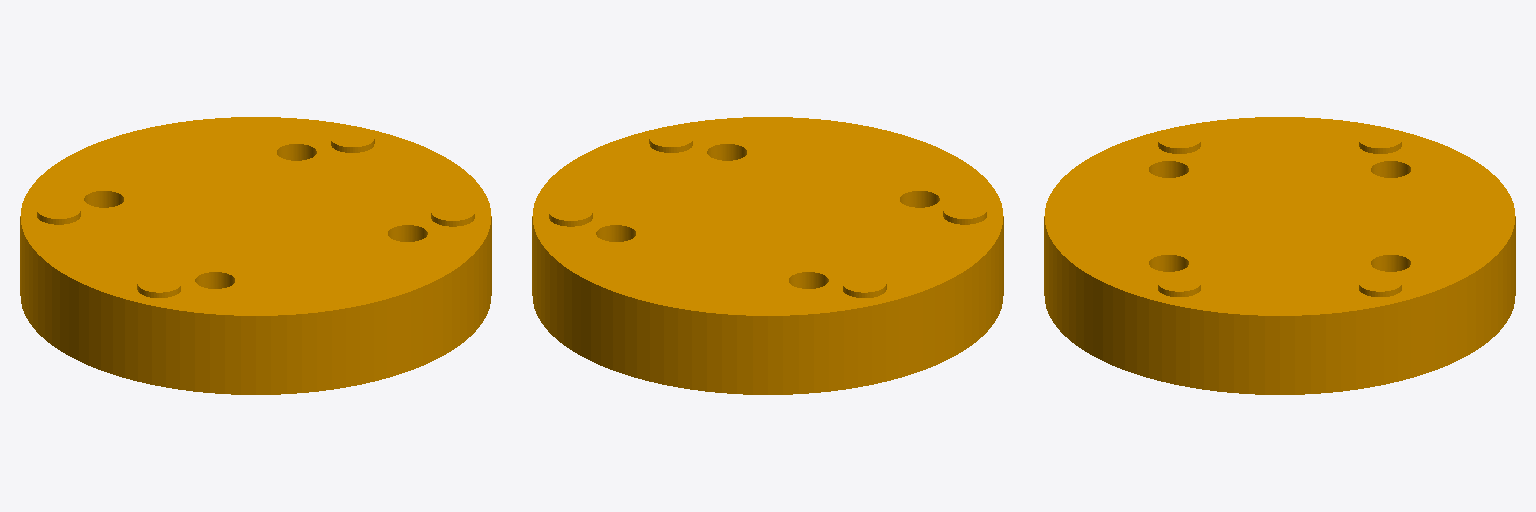
robot.urdf — robotiq_grp_es_cpl_077:
<?xml version="1.0"?>
<robot name="robotiq_grp_es_cpl_077">
<link name="mount"><visual ><geometry ><mesh filename="../meshes/mount.obj"/></geometry></visual><collision ><origin xyz="0 0 0.00695" rpy="0 0 0"/><geometry ><cylinder radius="0.0375" length="0.0139"/></geometry></collision></link>
<link name="flange"></link>
<joint name="flange_joint" type="fixed"><parent link="mount"/><child link="flange"/><origin xyz="0 0 0.0139" rpy="0 0 0"/></joint>
</robot>

--- Facts derived from the render (not from the file) ---
3 views of the same robot in one strip: view 1: azimuth 30°, elevation 25°; view 2: azimuth 150°, elevation 25°; view 3: azimuth 270°, elevation 25° (orthographic).
Robot: robotiq_grp_es_cpl_077 — 2 links, 1 joints (1 fixed); root link mount; default pose: every joint at zero.
Links seen in each view (by area): view 1: mount; view 2: mount; view 3: mount.
Link boxes in pixels (bbox=[...]): mount: bbox=[20, 117, 491, 394]; mount: bbox=[532, 117, 1003, 394]; mount: bbox=[1044, 117, 1515, 394].
Size in the robot's own frame: 0.075 by 0.075 by 0.0149 metres.
Meshes: 1 distinct files referenced, 1 mesh visuals loaded (1 OBJ).
